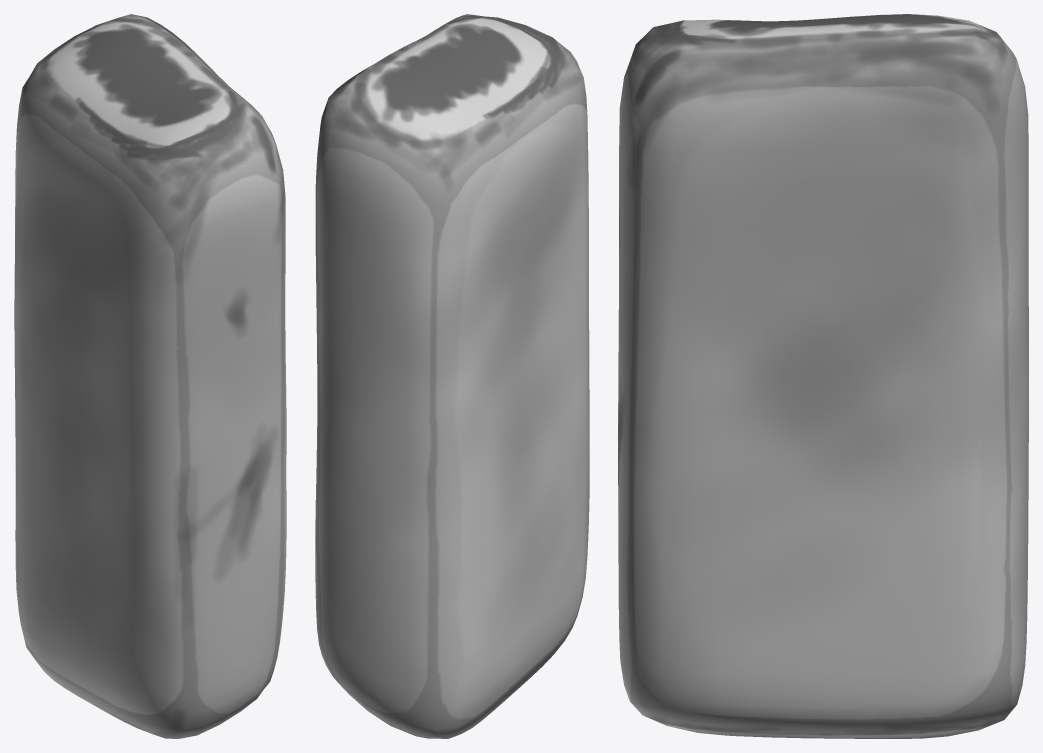
The model's file is Eraser_mesh.fbx.
The picture shows the model from 3 angles, left to right: view 1: azimuth 30°, elevation 25°; view 2: azimuth 150°, elevation 25°; view 3: azimuth 270°, elevation 25°; orthographic projection. The views are drawn at different scales.
Visible parts, largest first — view 1: Eraser_mesh; view 2: Eraser_mesh; view 3: Eraser_mesh.
Boxes of the visible parts, box(x1,y1,x2,y2) form: Eraser_mesh: box(14, 14, 286, 738); Eraser_mesh: box(315, 14, 589, 738); Eraser_mesh: box(618, 14, 1028, 738).
Size of the model in its own units: 0.6042 by 2.5 by 1.25.
Materials: 1 (1 with a texture image).
